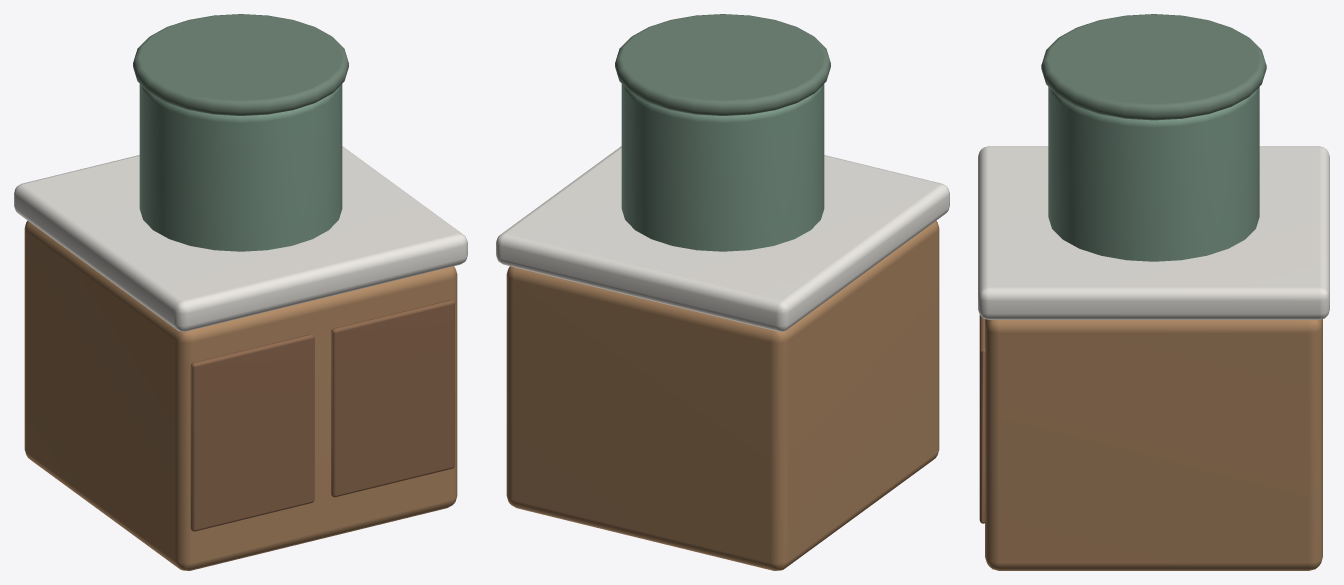
The model's file is trash.glb.
The picture shows the model from 3 angles, left to right: view 1: azimuth 30°, elevation 25°; view 2: azimuth 150°, elevation 25°; view 3: azimuth 270°, elevation 25°; orthographic projection. The views are drawn at different scales.
Parts seen in each view (by area): view 1: cabinet, top, bin, door-0.24, door0.24, lid; view 2: cabinet, top, bin, lid; view 3: cabinet, top, bin, lid, door0.24.
Boxes of the visible parts, x1=… form: cabinet: x1=24, y1=220, x2=457, y2=570; top: x1=14, y1=146, x2=467, y2=331; bin: x1=139, y1=84, x2=342, y2=251; door-0.24: x1=190, y1=334, x2=314, y2=531; door0.24: x1=331, y1=300, x2=454, y2=497; lid: x1=133, y1=14, x2=348, y2=115; cabinet: x1=506, y1=220, x2=939, y2=570; top: x1=496, y1=146, x2=949, y2=331; bin: x1=621, y1=84, x2=824, y2=251; lid: x1=615, y1=14, x2=830, y2=115; cabinet: x1=985, y1=319, x2=1322, y2=570; top: x1=978, y1=146, x2=1329, y2=319; bin: x1=1048, y1=87, x2=1259, y2=261; lid: x1=1041, y1=14, x2=1266, y2=120; door0.24: x1=979, y1=315, x2=985, y2=523.
Size of the model in its own units: 1 by 1.4 by 1.
